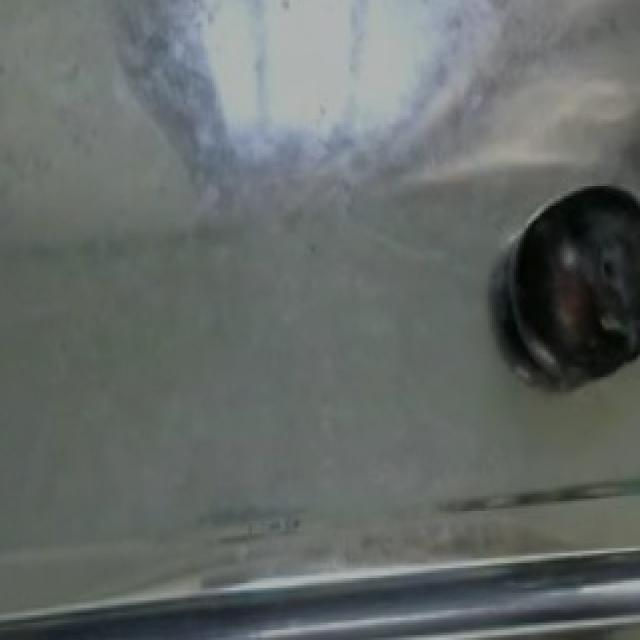Fruit: (504, 168, 640, 380)
